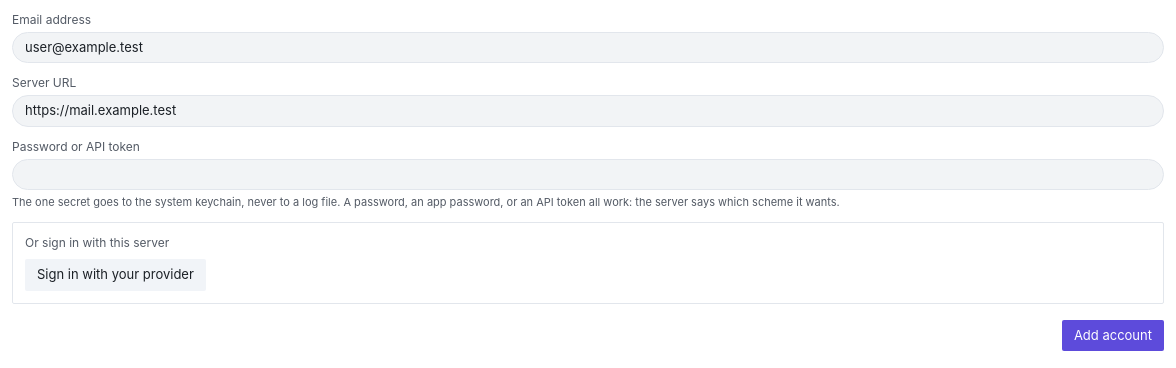
Test: a begun jmap sign-in › the cancel returns to the password field
The width and height of the screenshot is (1176, 368).
Click the button "Sign in with your provider": [115, 275] box [25,260,206,291]
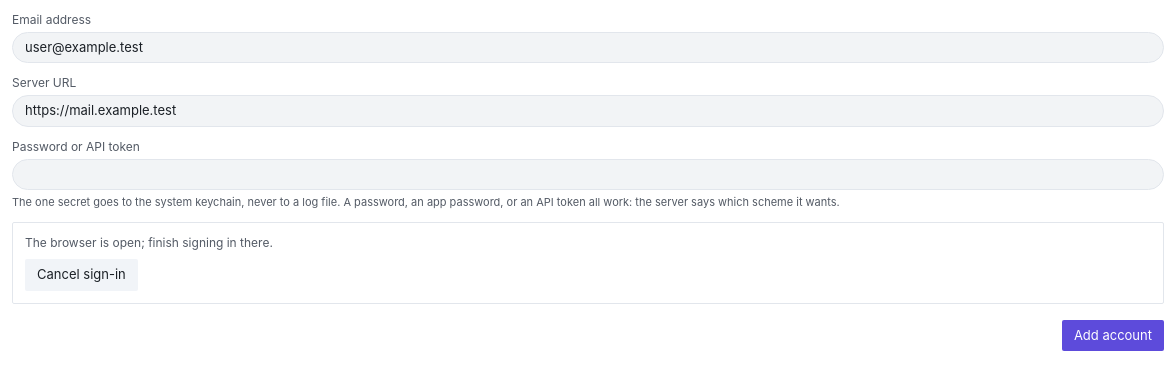
Click the button "Cancel sign-in": [81, 275] box [25,260,138,291]
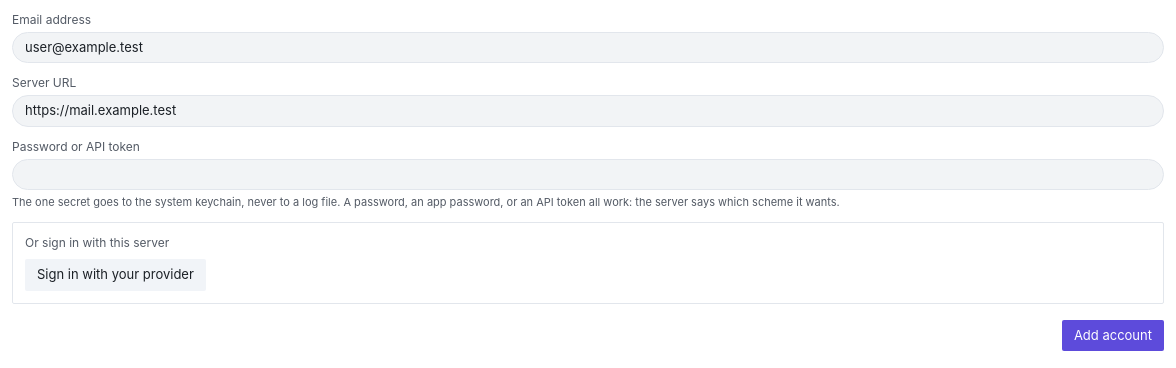
Expected: the button "Sign in with your provider" is shown, [25,260,206,291]
